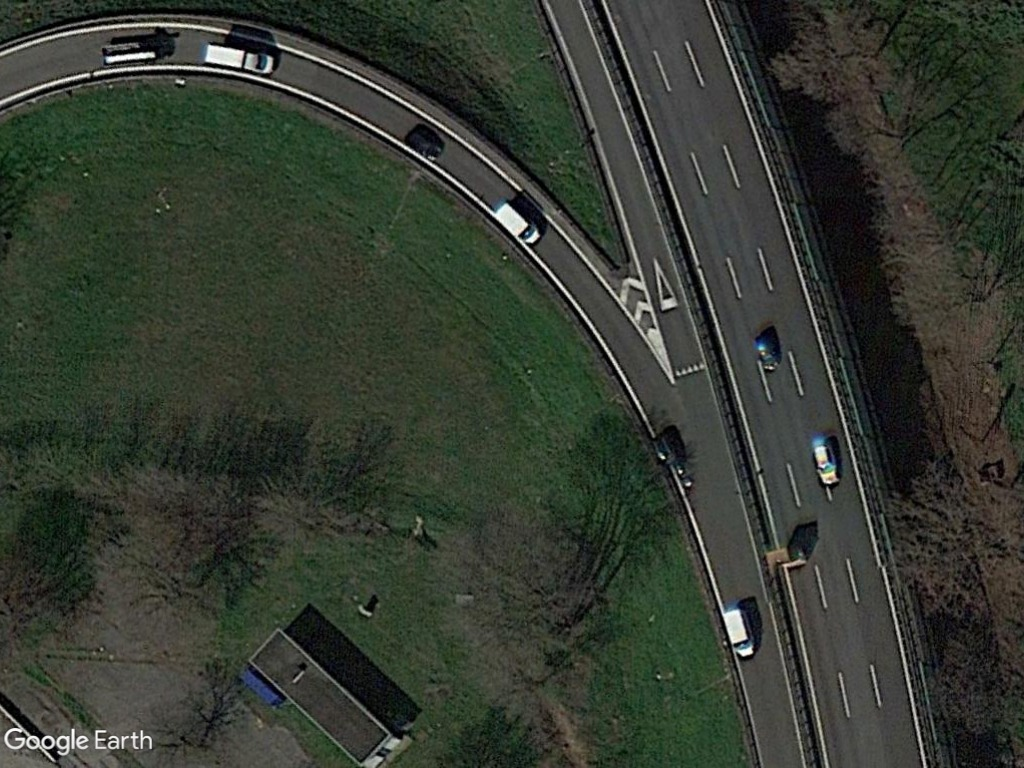van: (199, 38, 280, 77), (489, 198, 546, 250), (719, 607, 758, 663)
